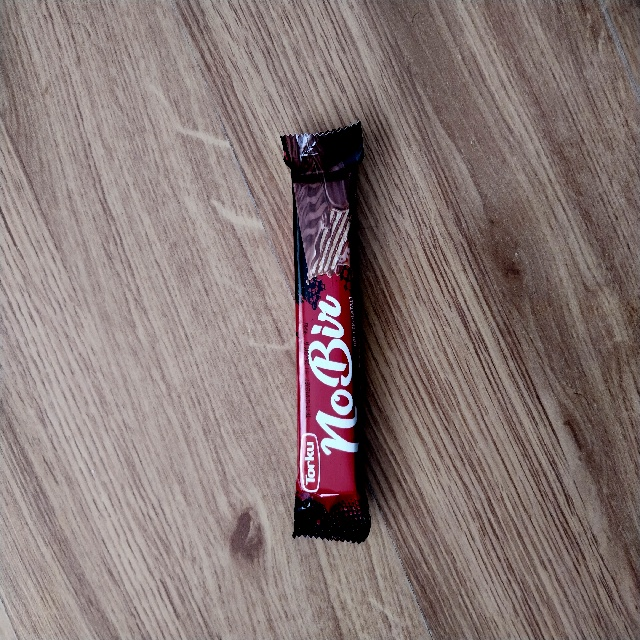torku_nobir_gofret: (293, 126, 368, 539)
